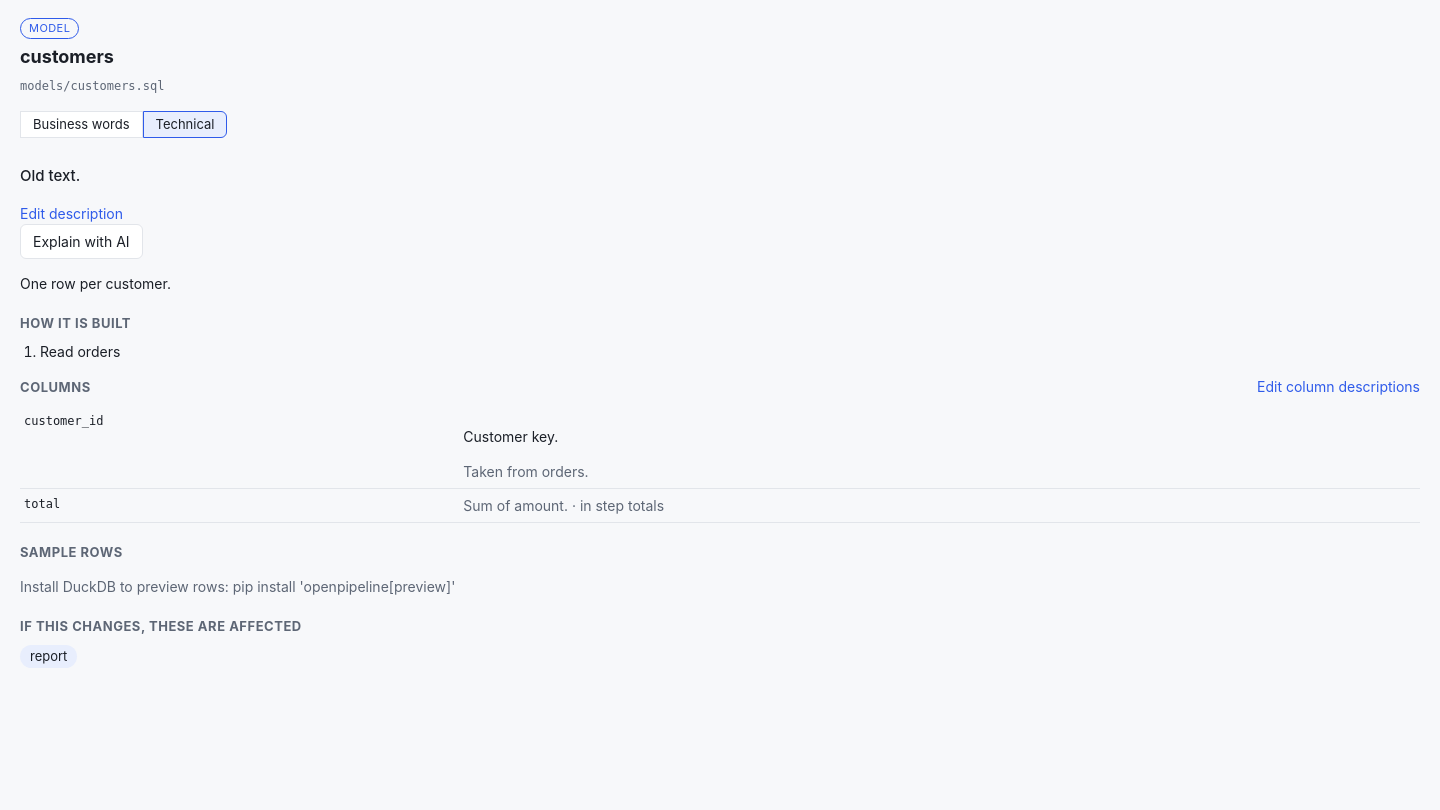
Test: StoryPanel editing › cancel leaves the description alone
Click the button "Edit description".
click(72, 213)  # box [20,202,123,224]
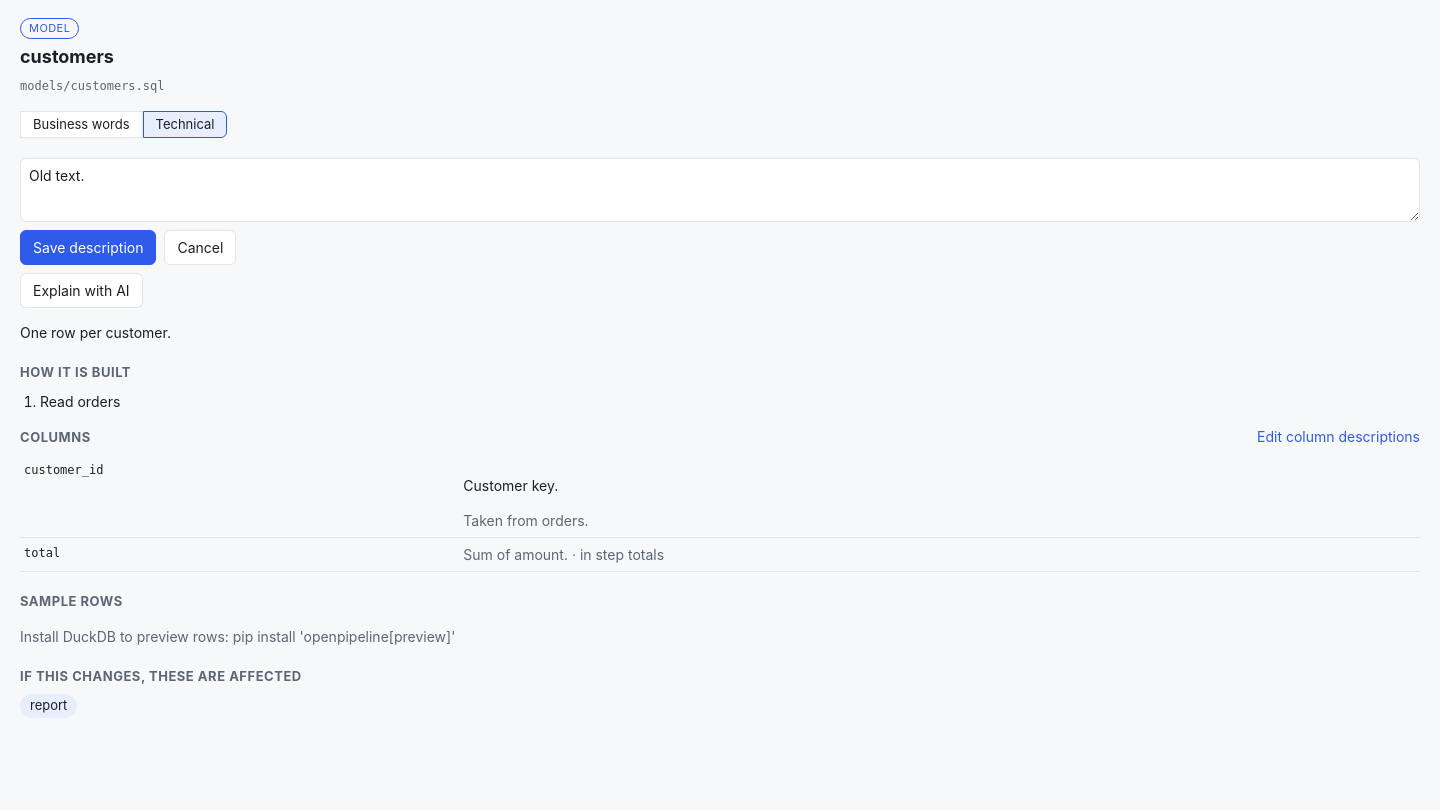
Type " more" into the text box named "Description".
click(720, 190); type(" more")  # box [20,158,1420,222]
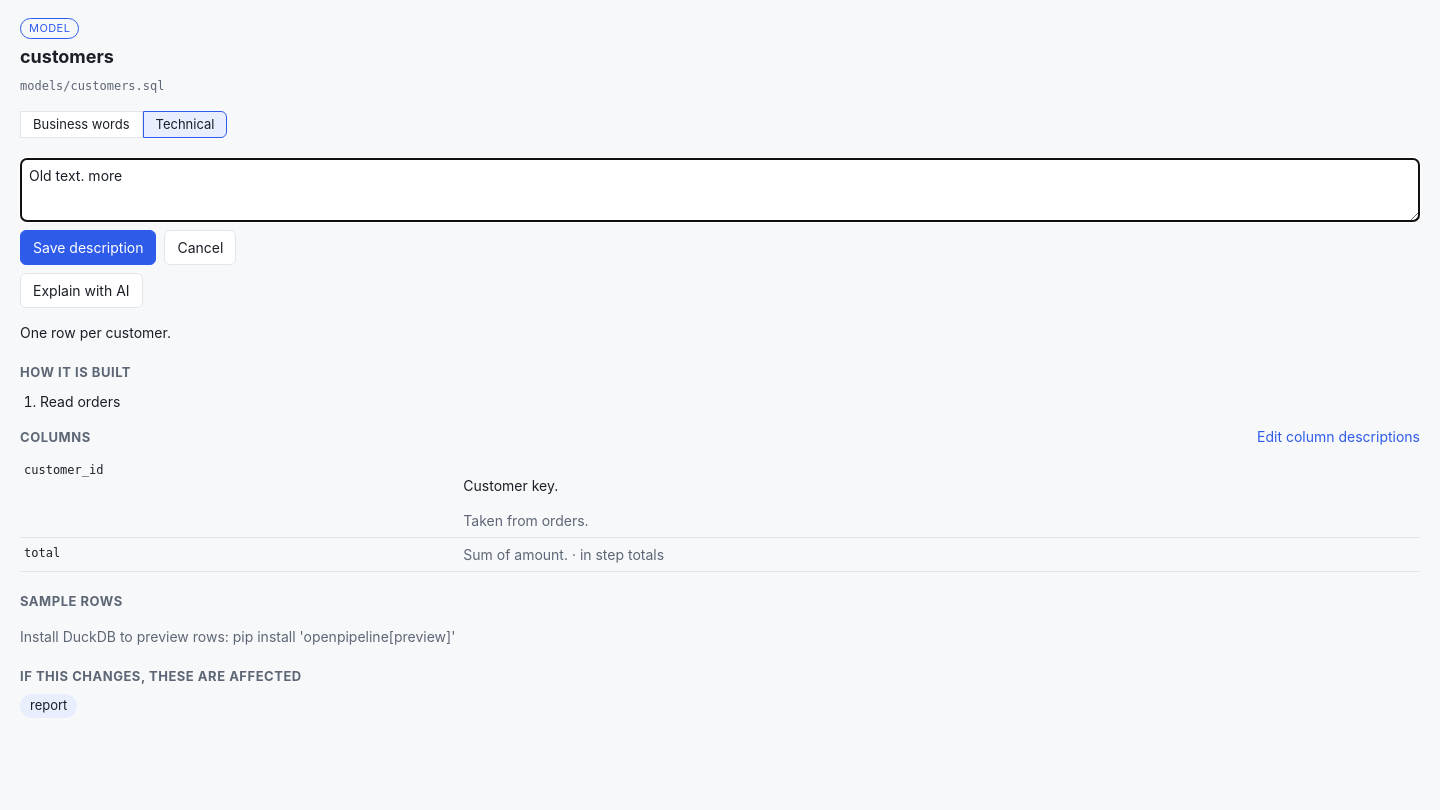
Click the button "Cancel".
click(200, 248)  # box [164,230,236,265]
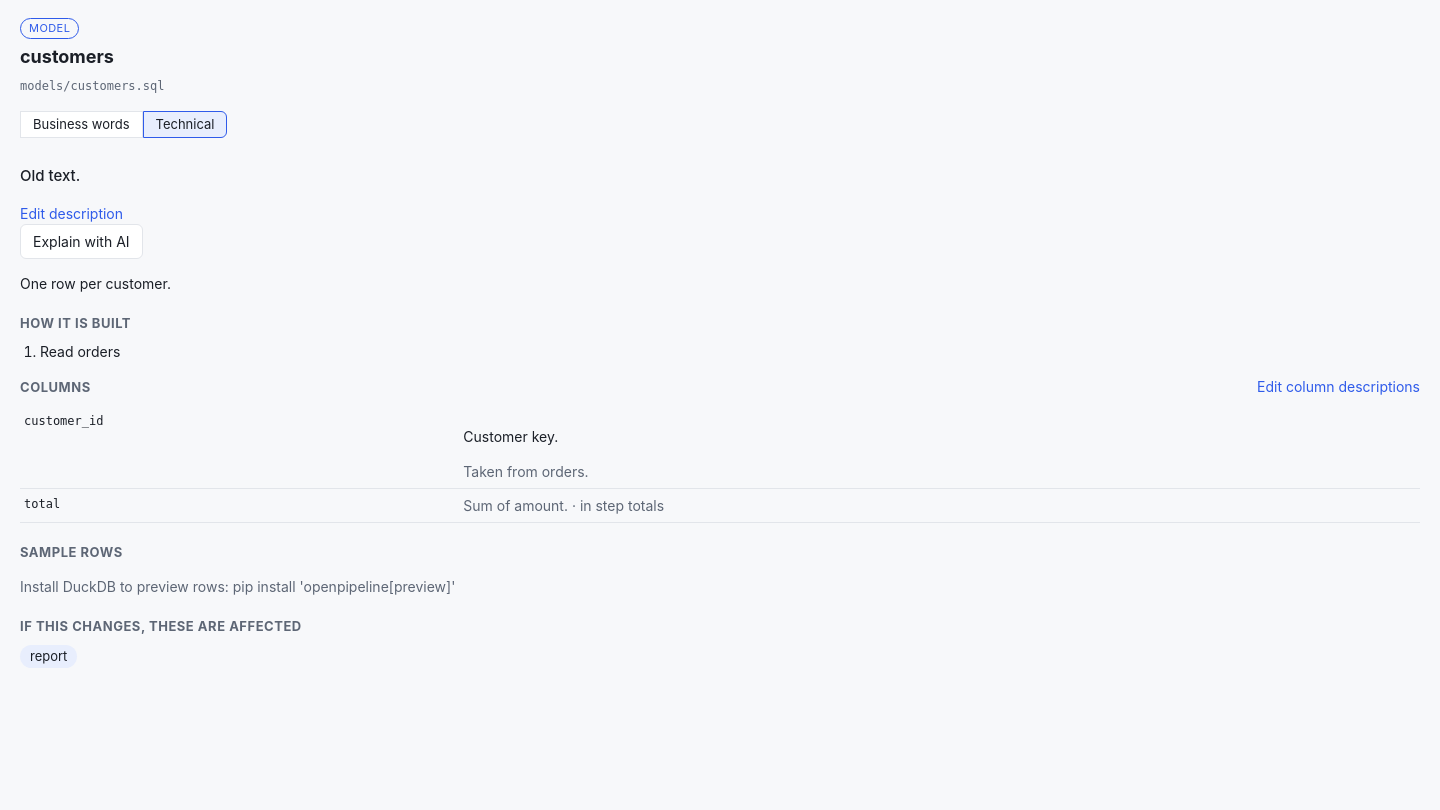
Expected: the text "Old text." is shown, [20,166,80,185]
